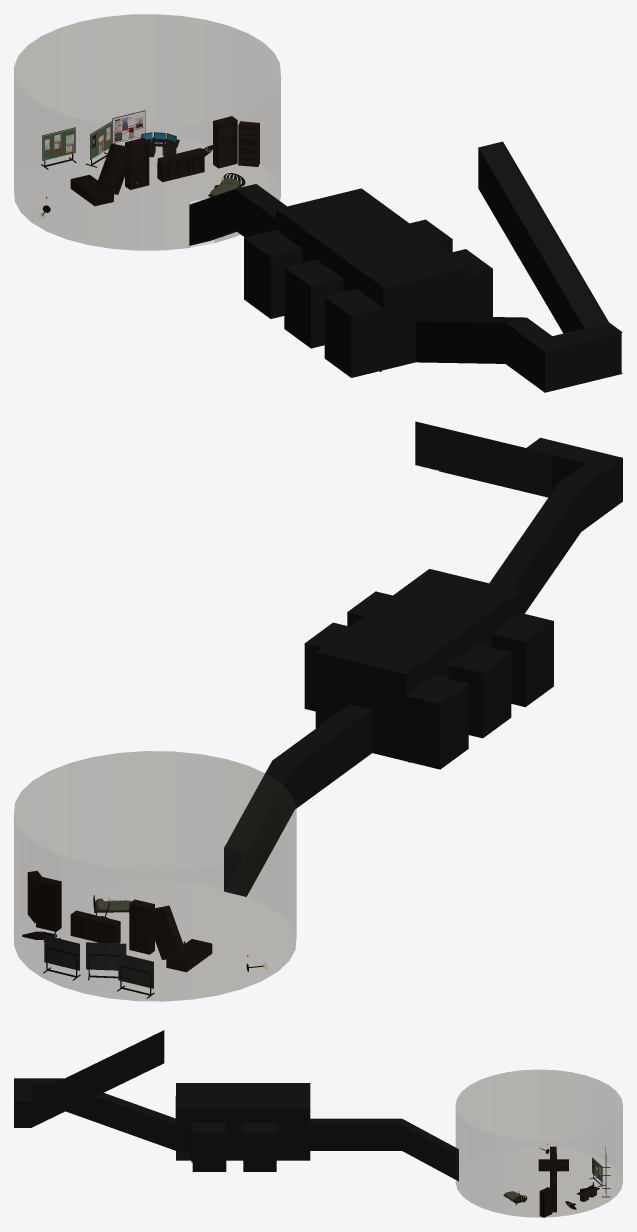
File: mutebutton2.obj
3 views of the same model, one above another, from view 1: azimuth 30°, elevation 25°; view 2: azimuth 150°, elevation 25°; view 3: azimuth 270°, elevation 25° (orthographic). The views are drawn at different scales.
Parts seen in each view (by area): view 1: Cube.010, Cylinder, Cube.020, Cube.018, Cube.016, Cube.015, Cube.011, Cube.014, Plane.001, Cube.031; view 2: Cylinder, Cube.010, Cube.020, Cube.018, Cube.015, Cube.016, Cube.012, Cube.014, Cube.024, Cube.028; view 3: Cube.010, Cylinder, Cube.011, Cube.014.
Boxes of the visible parts, bbox=[...] form: Cube.010: bbox=[189, 141, 622, 392]; Cylinder: bbox=[14, 14, 280, 250]; Cube.020: bbox=[213, 116, 237, 168]; Cube.018: bbox=[157, 148, 204, 181]; Cube.016: bbox=[125, 137, 149, 189]; Cube.015: bbox=[96, 143, 133, 194]; Cube.011: bbox=[238, 121, 259, 166]; Cube.014: bbox=[70, 174, 113, 206]; Plane.001: bbox=[43, 128, 75, 159]; Cube.031: bbox=[113, 111, 145, 143]; Cylinder: bbox=[14, 751, 296, 1001]; Cube.010: bbox=[224, 421, 622, 896]; Cube.020: bbox=[36, 876, 61, 931]; Cube.018: bbox=[70, 910, 120, 943]; Cube.015: bbox=[145, 905, 184, 959]; Cube.016: bbox=[129, 899, 154, 954]; Cube.012: bbox=[86, 942, 126, 970]; Cube.014: bbox=[166, 939, 212, 972]; Cube.024: bbox=[118, 953, 153, 988]; Cube.028: bbox=[44, 935, 79, 970]; Cube.010: bbox=[14, 1030, 458, 1181]; Cylinder: bbox=[456, 1069, 622, 1217]; Cube.011: bbox=[539, 1187, 552, 1217]; Cube.014: bbox=[538, 1159, 568, 1171].
Size of the model in its own units: 65.76 by 70.57 by 239.
